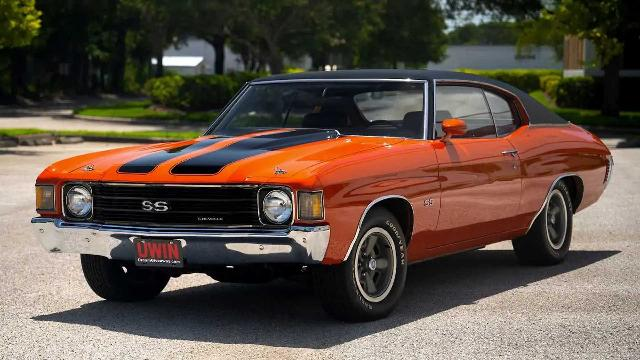chevelle-1972: (32, 70, 614, 321)
